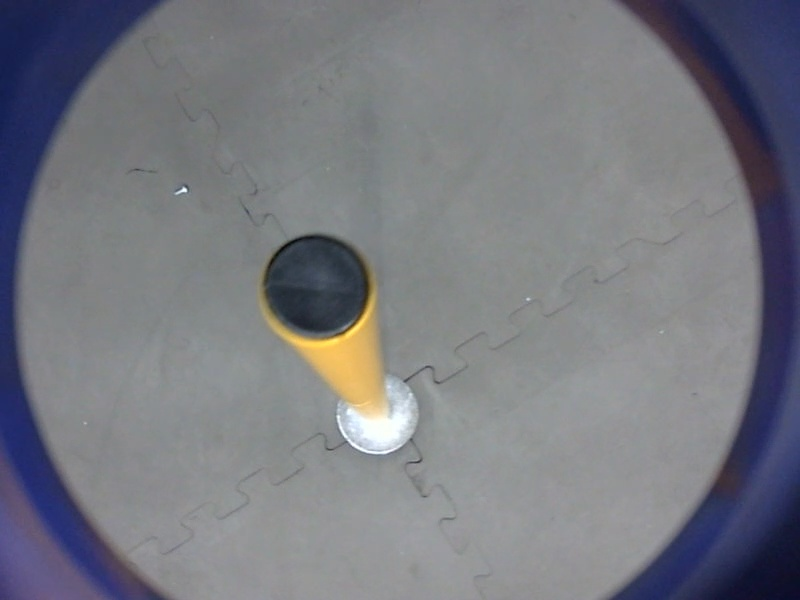tip: (253, 228, 382, 352)
